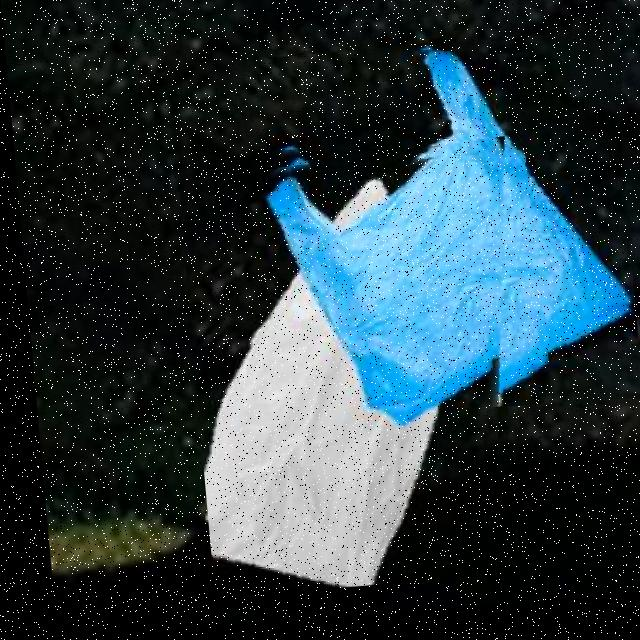plasticcover: (172, 145, 530, 601), (229, 40, 634, 433)
